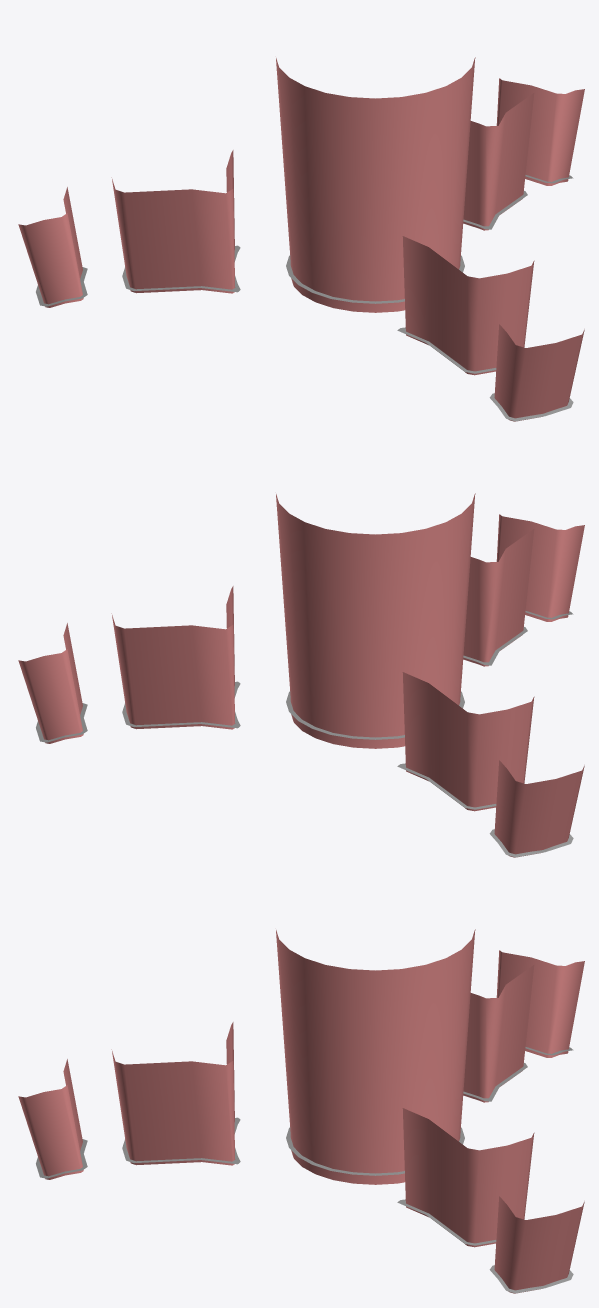
Rendered from BoostPad_Large_Glow.gltf.
3 views of the same model, one above another, from view 1: azimuth 30°, elevation 25°; view 2: azimuth 150°, elevation 25°; view 3: azimuth 270°, elevation 25° (orthographic).
Visible parts, largest first — view 1: BoostPad_Large_Glow; view 2: BoostPad_Large_Glow; view 3: BoostPad_Large_Glow.
Part boxes in pixels (x1,y1,x2,y2): BoostPad_Large_Glow: (18,57,584,421); BoostPad_Large_Glow: (18,493,584,857); BoostPad_Large_Glow: (18,929,584,1293).
Bounding box in the file's own units: 1.62 × 0.6545 × 1.42.
